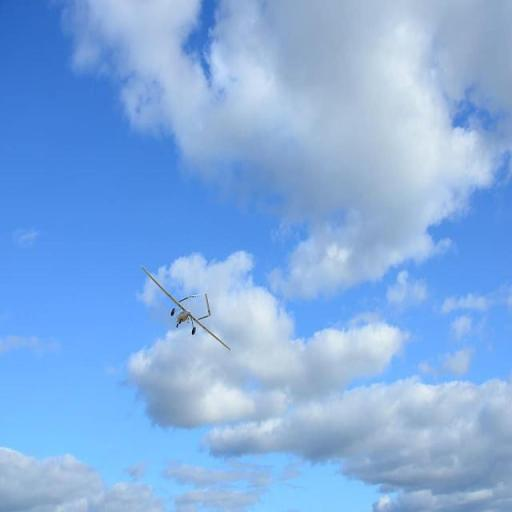uav: (134, 260, 232, 360)
